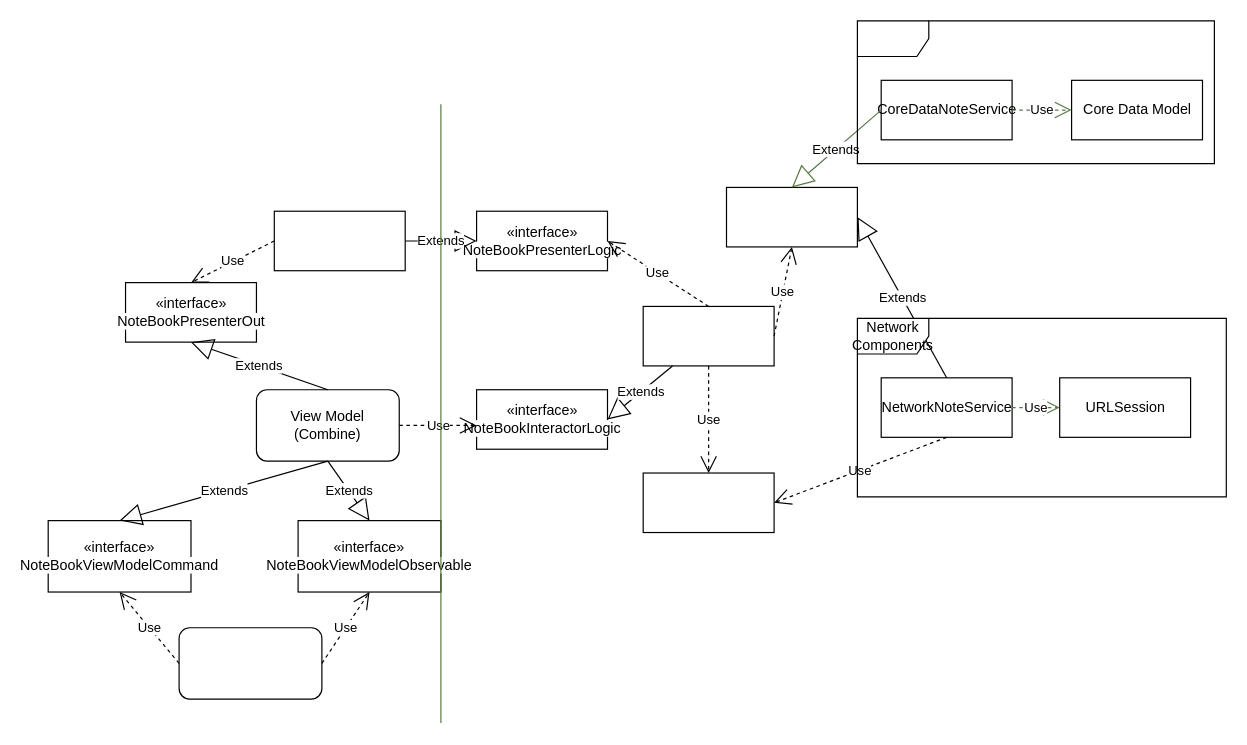
Image size: 1247x745. Some labels were removed from this diagram. The shapes that lost their labels are listed below. From the top down, each one's centre as x and y in pixels, then its label:
At point (1035, 92): "DB Components".
At point (791, 216): "«interface» NoteService".
At point (339, 240): "NoteBookPresenter".
At point (708, 335): "NoteBookInteractor".
At point (708, 502): "Note".
At point (250, 663): "UIView (Swift UI)".
